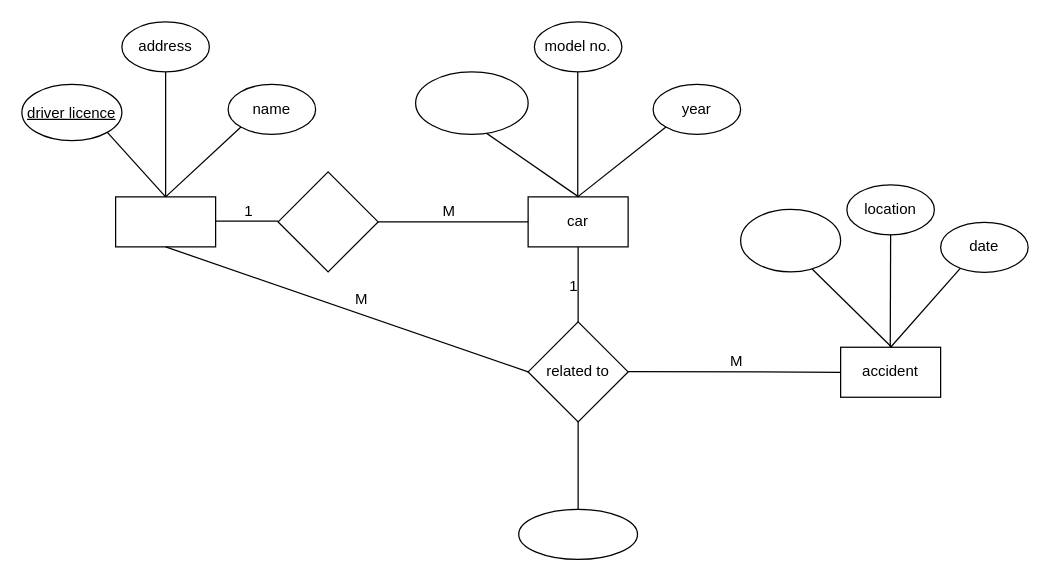
Image size: 1050x581. Some labels were removed from this diagram. The shapes that lost their labels are listed below. From the top down, each one's centre as x and y in pixels, then its label:
At point 471,102: "licence".
At point 165,221: "customer".
At point 327,221: "owner".
At point 790,240: "report number".
At point 578,533: "damage amount".
